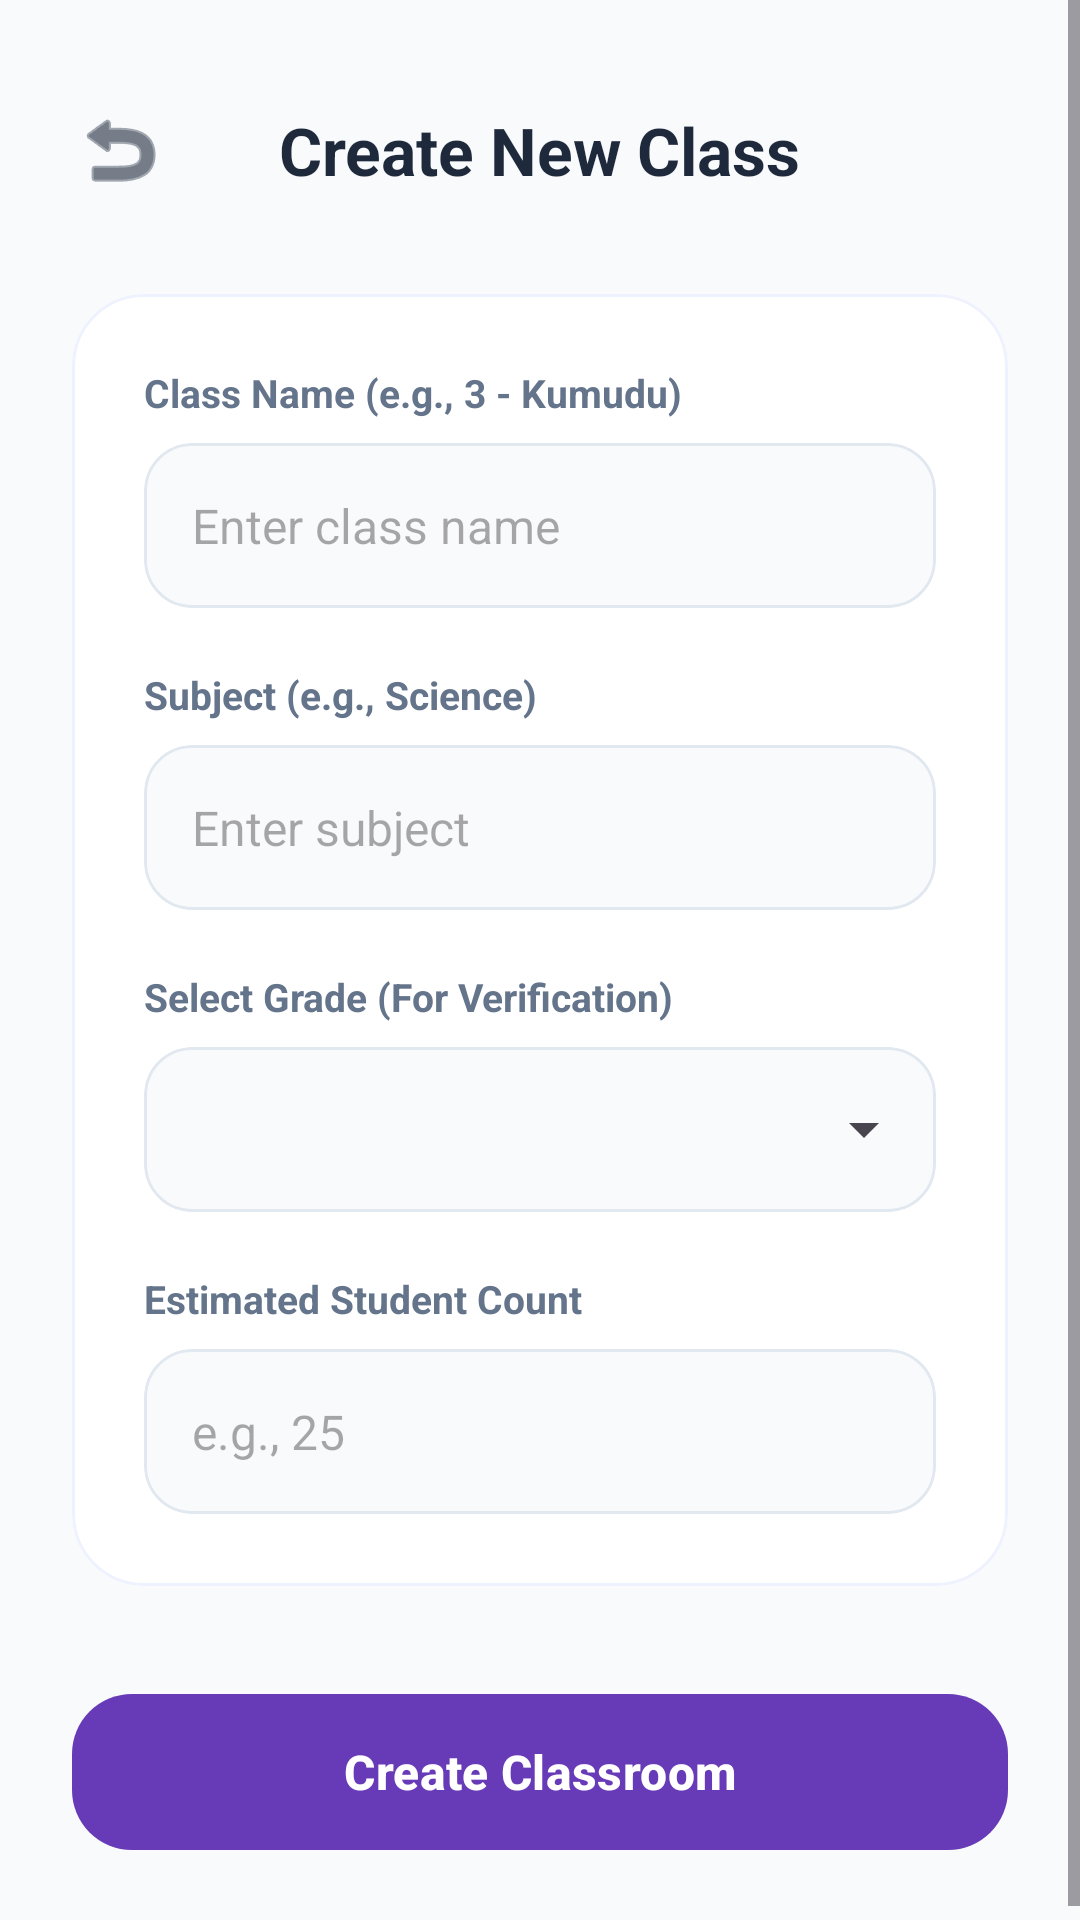

Screen size 1080*1920. Icon name, then its box in pixels as (x1, y1, x2, y2):
revert: (87, 119, 156, 182)
